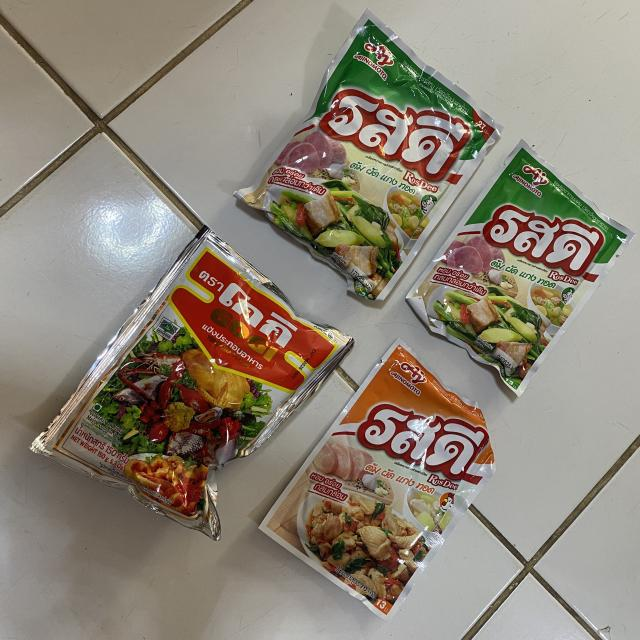plastik: (31, 226, 352, 540), (235, 11, 501, 301), (260, 340, 494, 619), (406, 141, 634, 395)
